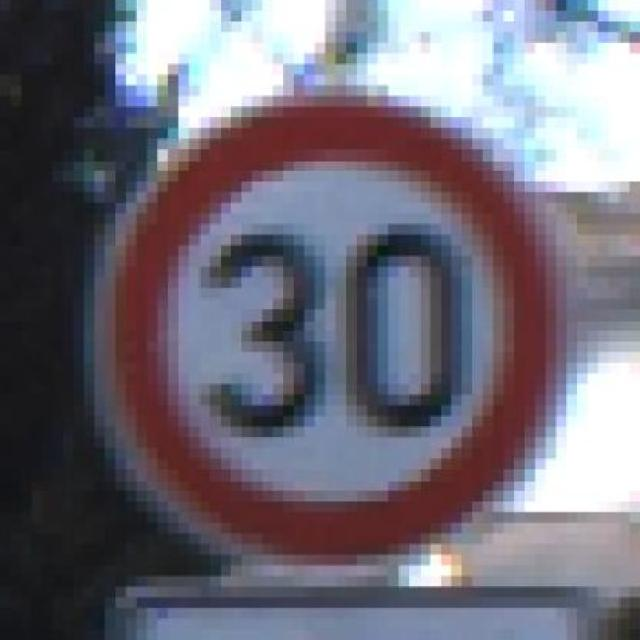Speed Limit 30 KMPh: (52, 85, 588, 566)
